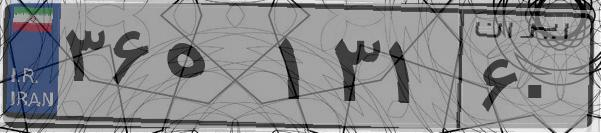0: (525, 38, 570, 115)
1: (270, 28, 330, 110), (385, 28, 445, 110)
3: (330, 28, 385, 110), (57, 26, 110, 100)
6: (475, 38, 525, 113), (110, 28, 158, 98)
ه: (158, 20, 270, 120)
